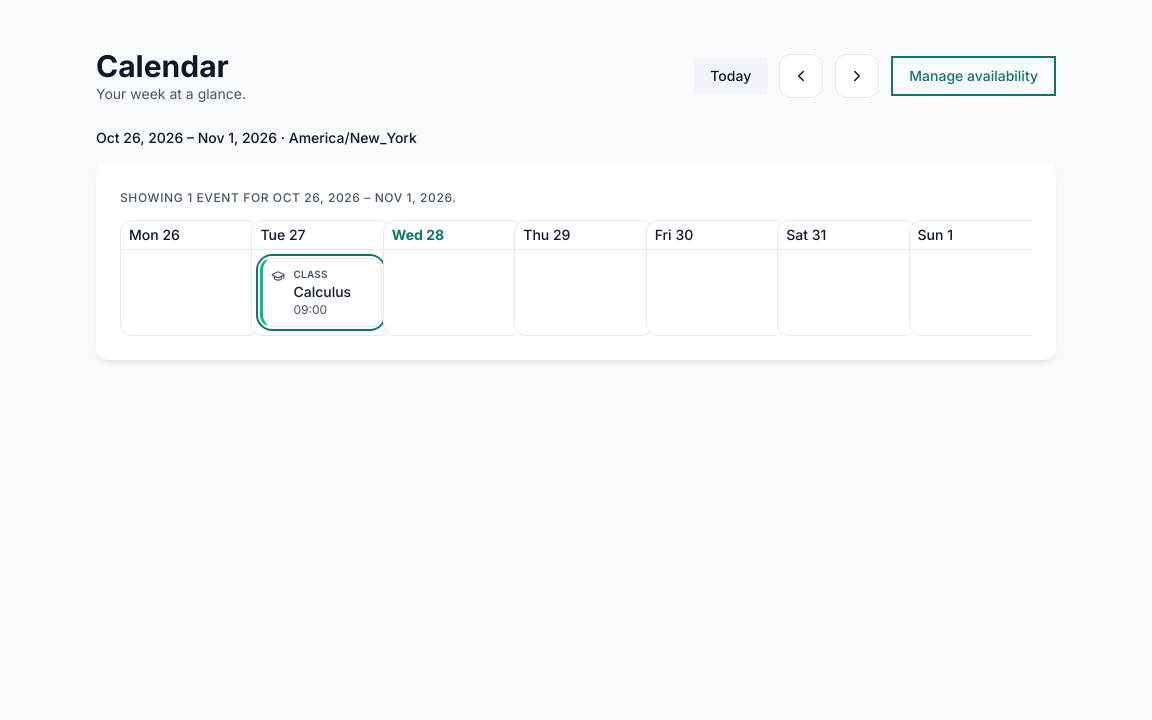
Test: CalendarPage (SP-127B) › opens details dialog from a chip; Escape closes and focus returns
Click the button with aria-label "Class: Calculus, 09:00".
click(321, 292)  # box [260,258,382,327]
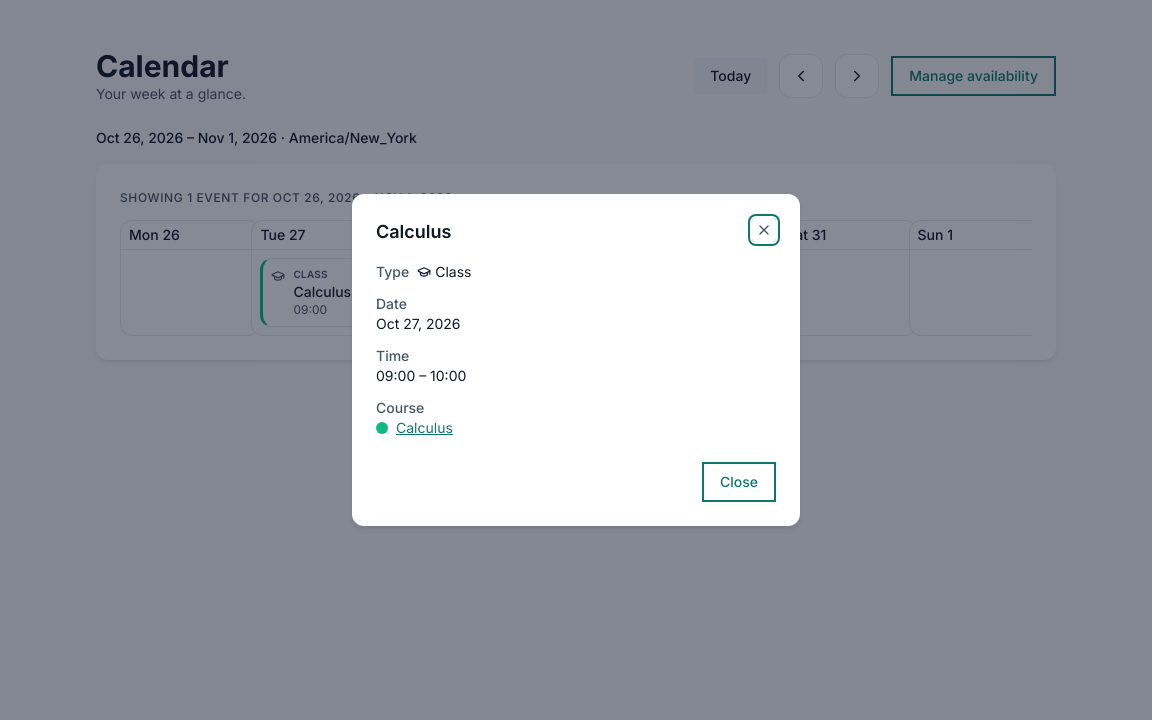
Expected: the dialog shows "Calculus", [376,221,451,242]
Press Escape
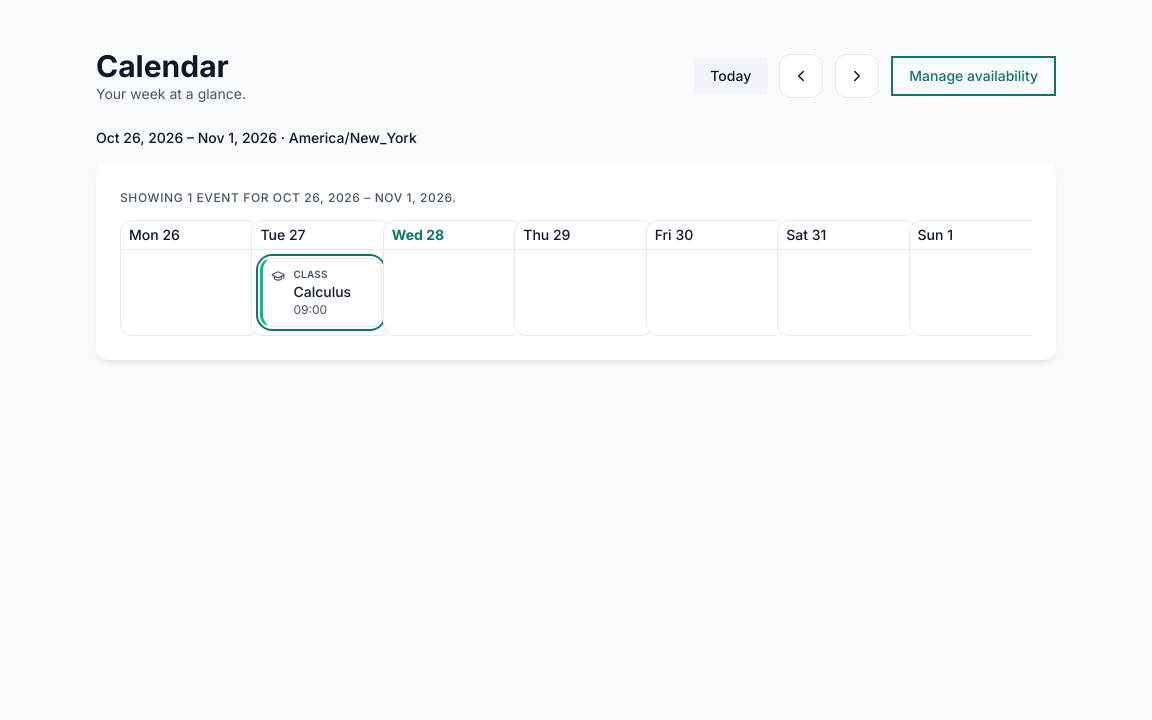
Expected: the dialog is gone
